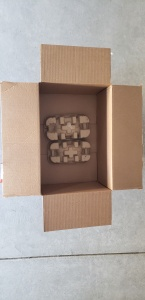innerbox: (36, 82, 114, 191)
outerbox: (3, 44, 142, 226)
product: (48, 114, 89, 162)
